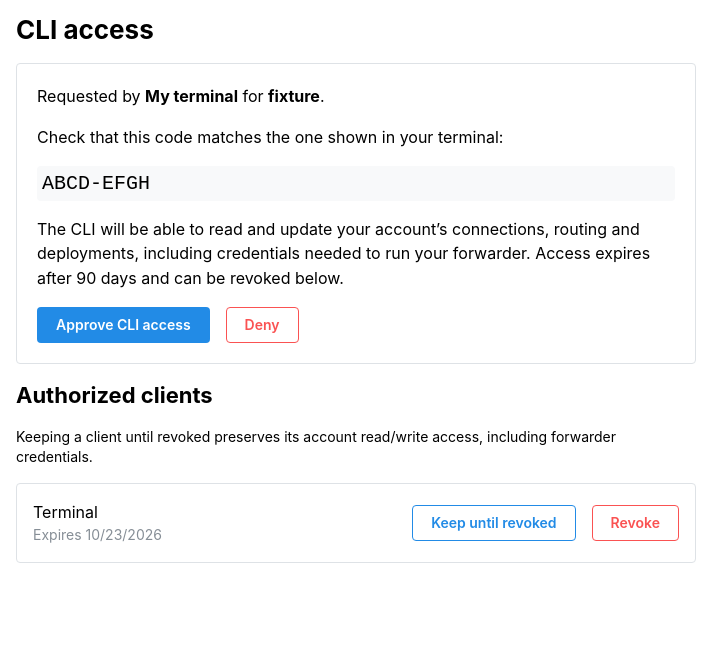
Test: keeps approval and revocation usable after unexpected failures
Check: the text "ABCD-EFGH" is shown, box [37, 166, 675, 201]
Click the button "Approve CLI access" at (123, 325), box [37, 307, 210, 343]
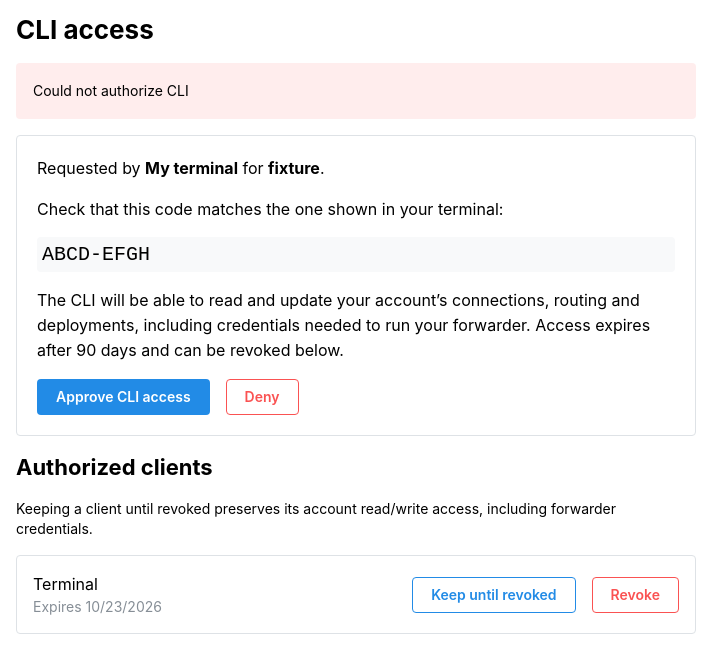
Check: the message reads "Could not authorize CLI", box [33, 82, 189, 99]
Click the button "Revoke" at (635, 595), box [592, 577, 679, 613]
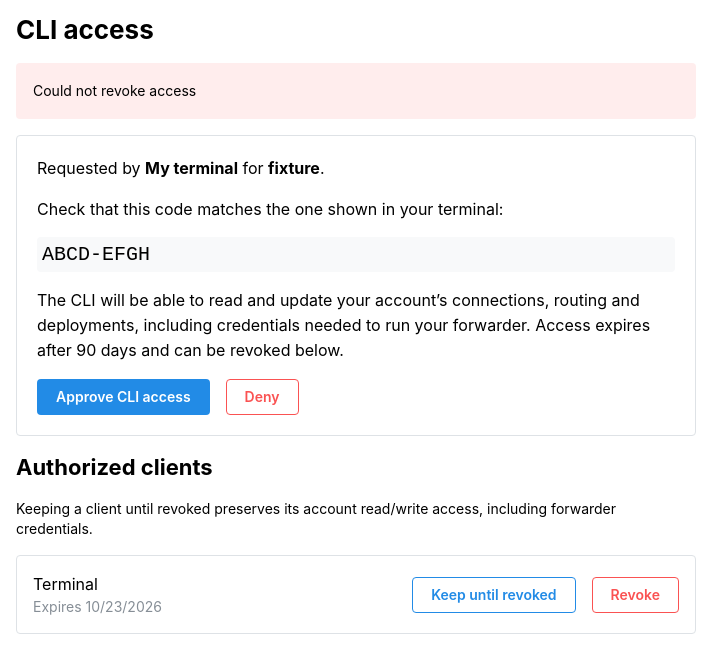
Check: the message reads "Could not revoke access", box [33, 82, 196, 99]
